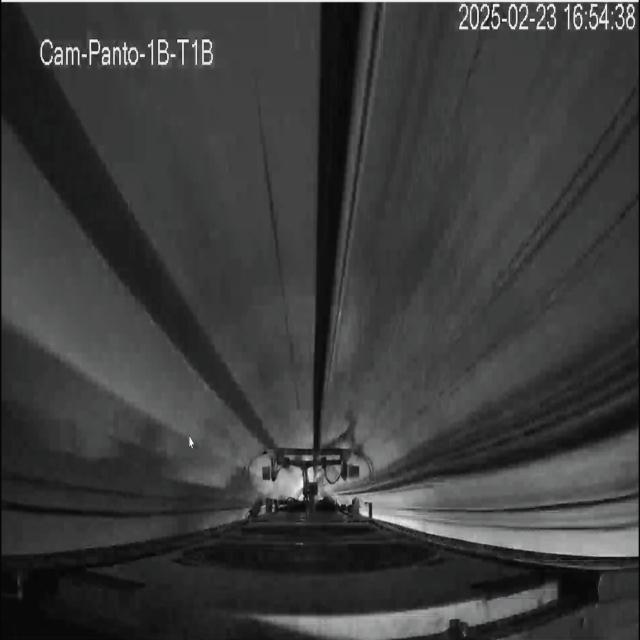Camera Stamp: (31, 22, 221, 72)
Date Stamp: (458, 3, 633, 33)
